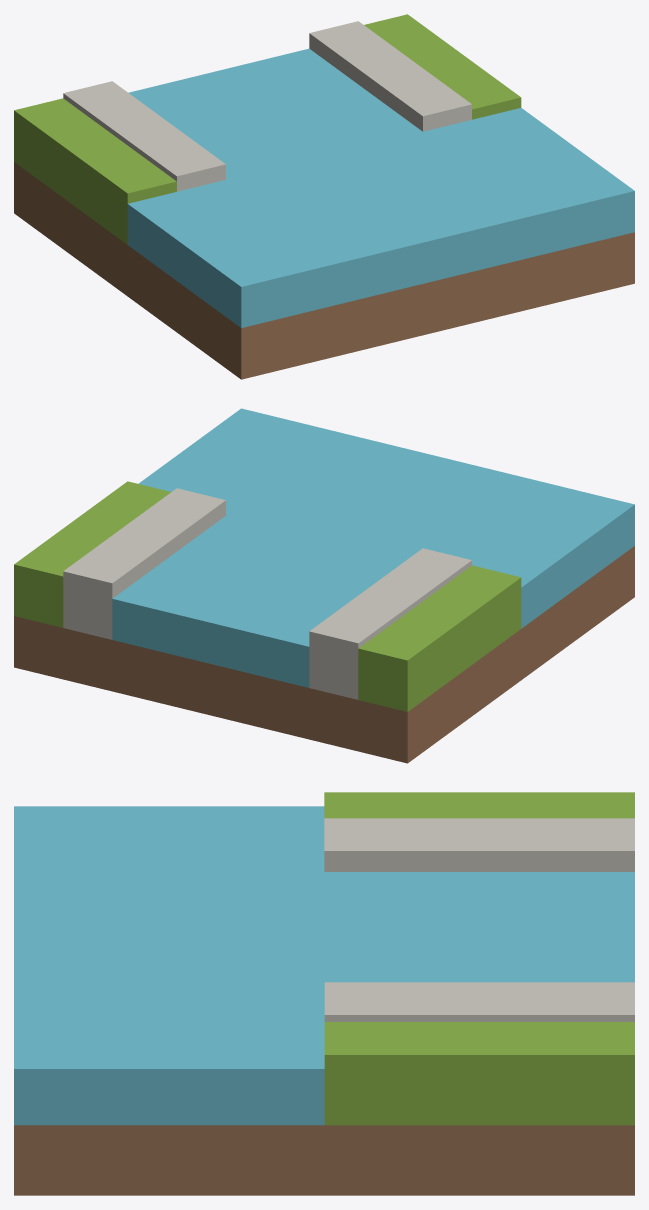
File: canal-river-low.obj
The picture shows the model from 3 angles, top to bottom: view 1: azimuth 30°, elevation 25°; view 2: azimuth 150°, elevation 25°; view 3: azimuth 270°, elevation 25°; orthographic projection. The views are drawn at different scales.
Visible parts, largest first — view 1: canal-river-low_Cube.223; view 2: canal-river-low_Cube.223; view 3: canal-river-low_Cube.223.
Part boxes in pixels (x1,y1,x2,y2): canal-river-low_Cube.223: (14, 14, 634, 379); canal-river-low_Cube.223: (14, 408, 634, 763); canal-river-low_Cube.223: (14, 792, 634, 1195).
Size of the model in its own units: 8 by 2.1 by 8.
Materials: 1 (1 with a texture image).
